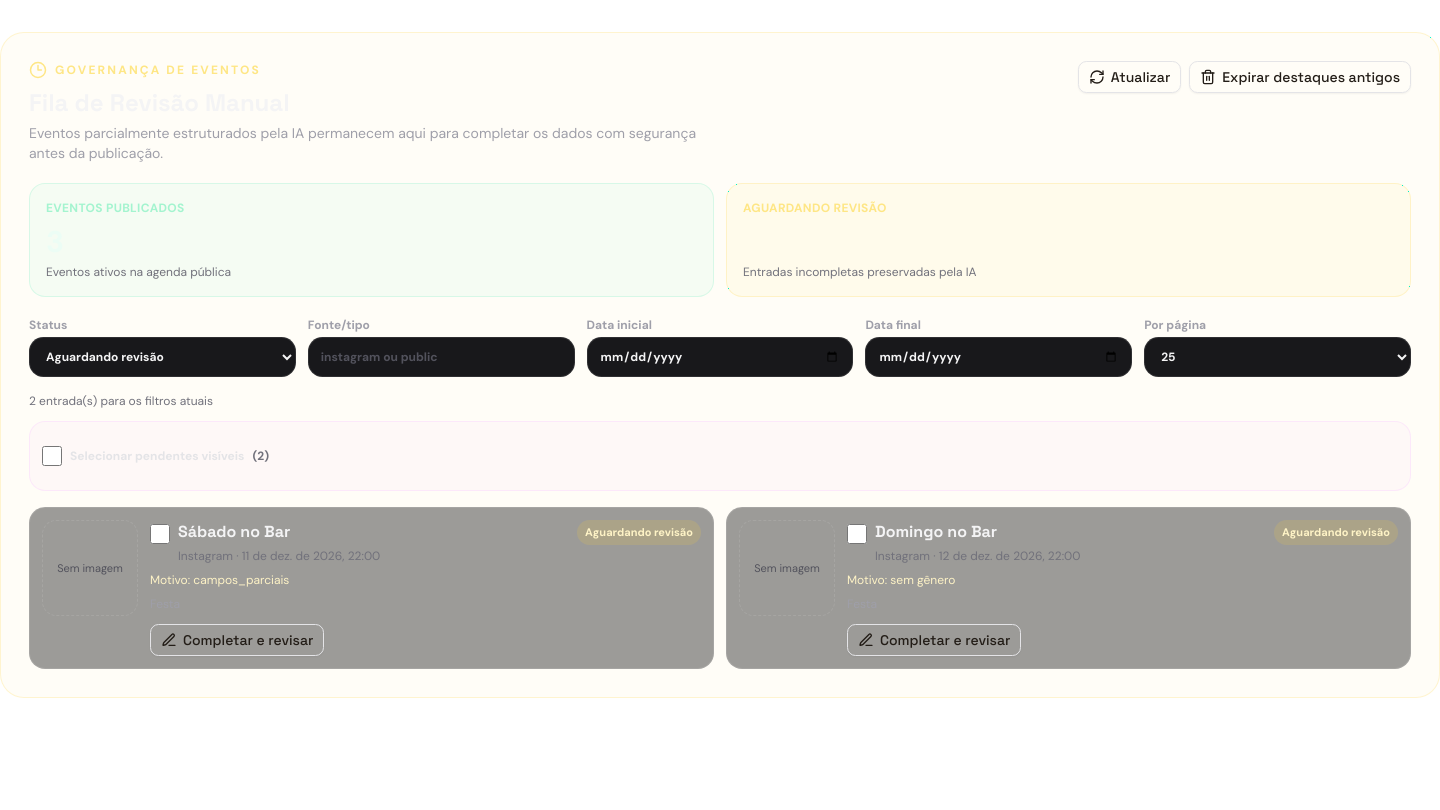
Test: ManualReviewPanel bulk selection › exibe o texto bruto na prévia da edição assistida
Click the button with test id "manual-review-edit-7" at (237, 640), box [150,624,324,656]
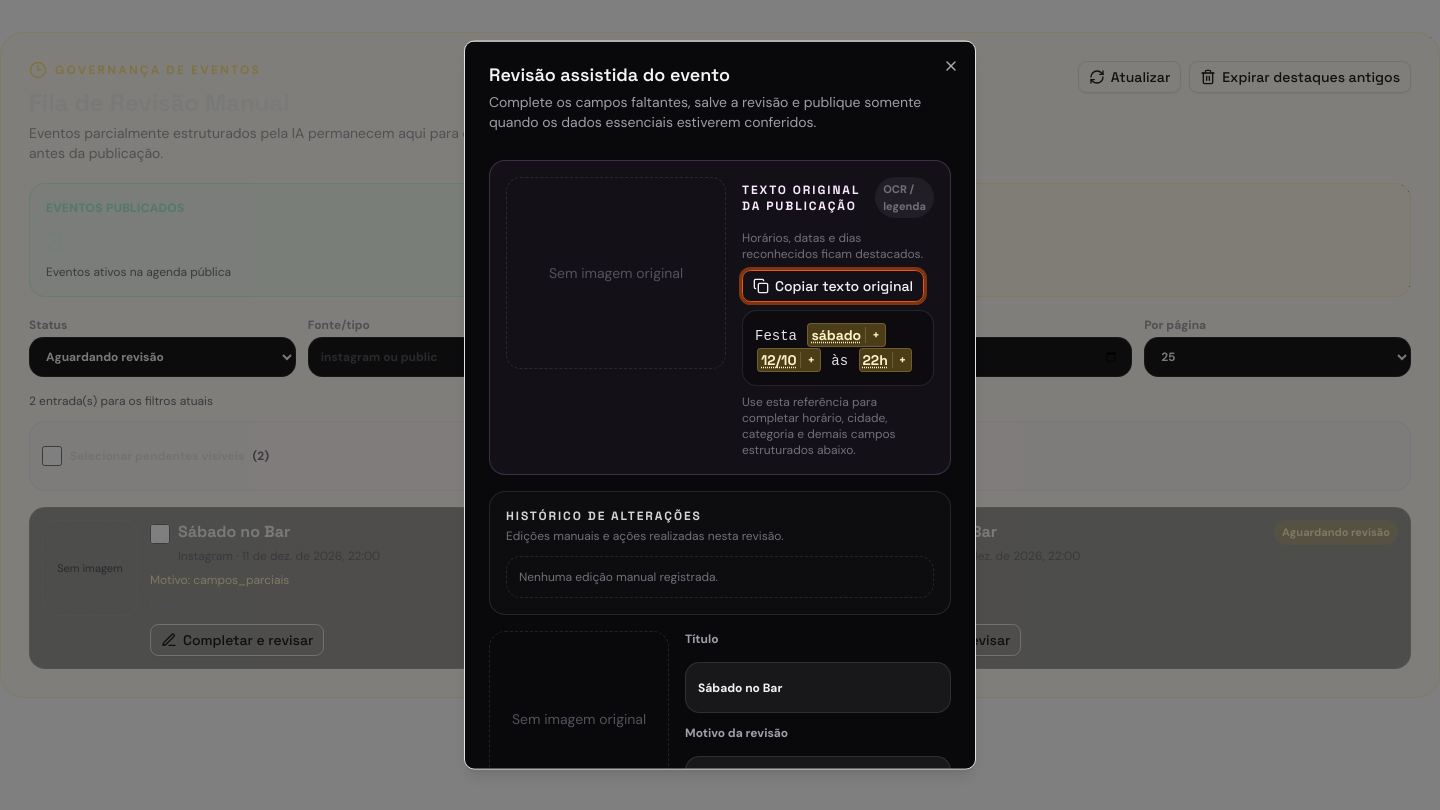
Result: the element with test id "manual-review-source-preview" is shown at [489,160,951,474]
Result: the heading "Texto original da publicação" is shown at [742,181,863,213]
